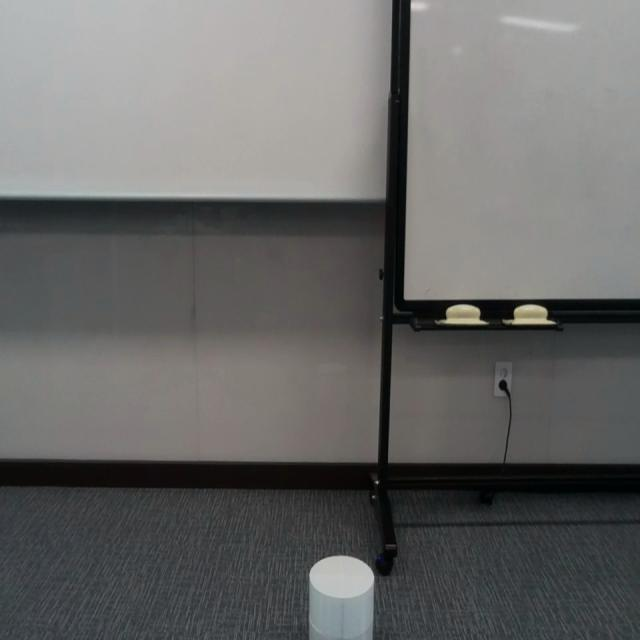cylinder: (309, 553, 375, 639)
